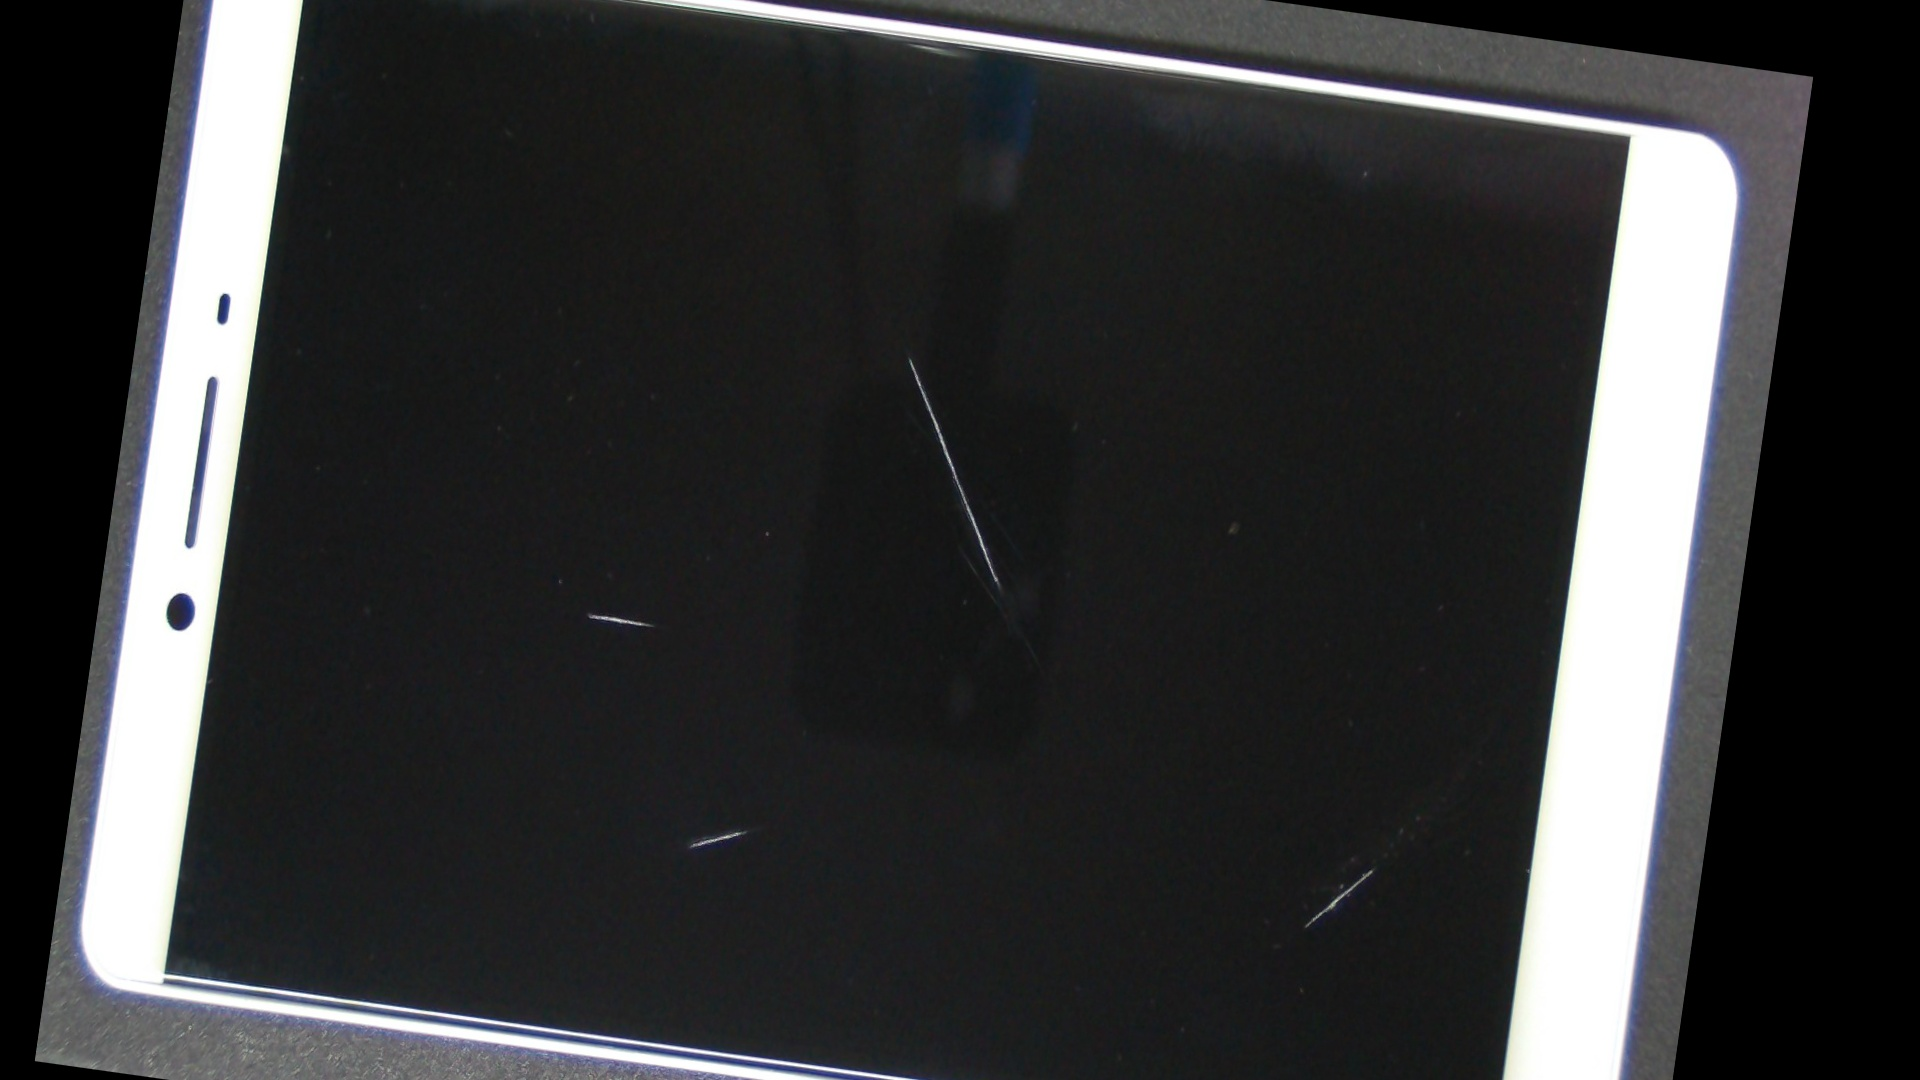oil: (678, 359, 1755, 1080), (723, 475, 1739, 1080), (367, 340, 1138, 1080), (299, 231, 878, 993), (501, 103, 1316, 608)
